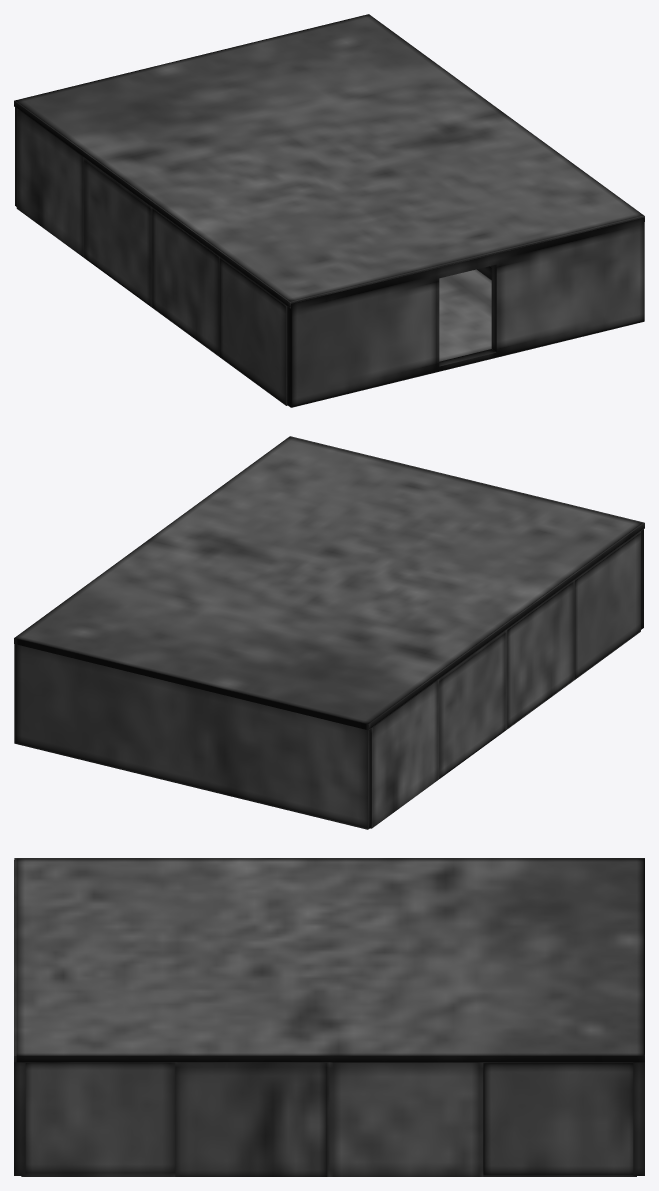
3 renders of one model, top to bottom at view 1: azimuth 30°, elevation 25°; view 2: azimuth 150°, elevation 25°; view 3: azimuth 270°, elevation 25°, orthographic. The views are drawn at different scales.
Visible parts, largest first — view 1: Prison; view 2: Prison; view 3: Prison.
Boxes of the visible parts, x1,y1,x2,y2 form: Prison: (14, 14, 644, 407); Prison: (14, 436, 644, 829); Prison: (14, 858, 644, 1176).
Size of what is drawn, in the model's own units: 1085 by 310 by 1462.
1 material, 1 textured.
